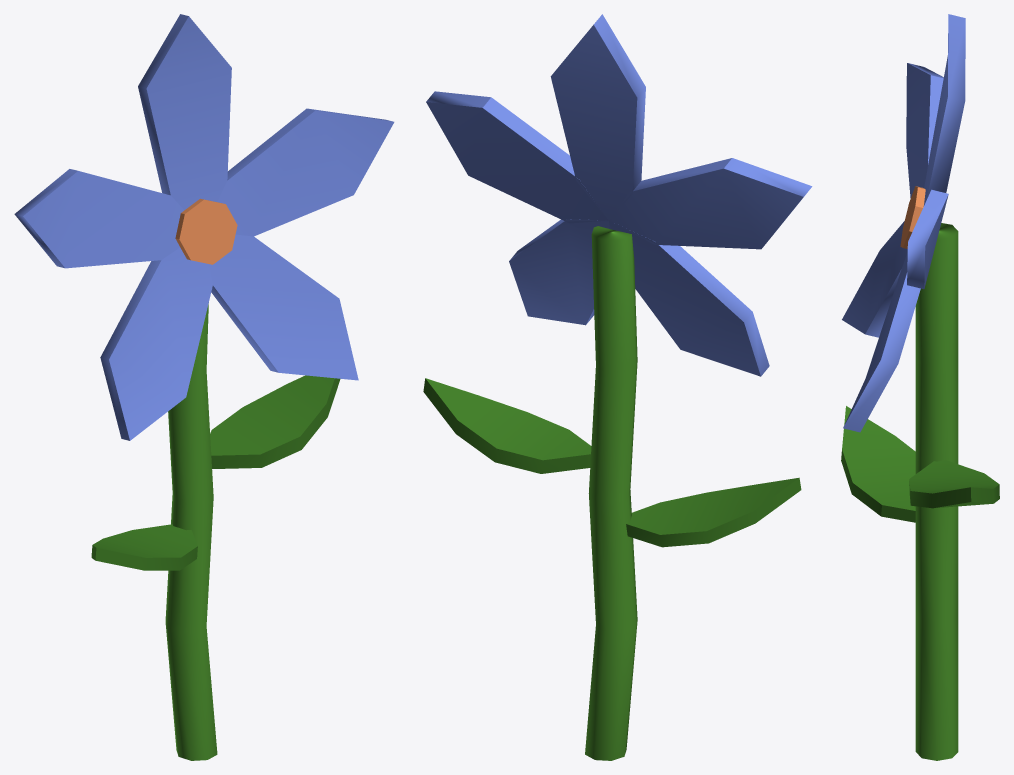
Rendered from Flower_Blue_3.fbx.
3 views of the same model, side by side, from view 1: azimuth 30°, elevation 25°; view 2: azimuth 150°, elevation 25°; view 3: azimuth 270°, elevation 25° (orthographic).
Visible parts, largest first — view 1: Cube.077, Cylinder.604, Plane.189, Plane.188, Cylinder.605; view 2: Cube.077, Cylinder.604, Plane.189, Plane.188; view 3: Cylinder.604, Cube.077, Plane.188, Plane.189, Cylinder.605.
Part boxes in pixels (x1=…): Cube.077: x1=14, y1=14, x2=394, y2=440; Cylinder.604: x1=165, y1=304, x2=217, y2=760; Plane.189: x1=210, y1=375, x2=340, y2=468; Plane.188: x1=91, y1=524, x2=197, y2=570; Cylinder.605: x1=175, y1=198, x2=237, y2=264; Cube.077: x1=426, y1=14, x2=812, y2=376; Cylinder.604: x1=585, y1=226, x2=637, y2=760; Plane.189: x1=423, y1=378, x2=591, y2=473; Plane.188: x1=626, y1=477, x2=801, y2=547; Cylinder.604: x1=915, y1=223, x2=958, y2=760; Cube.077: x1=842, y1=14, x2=965, y2=432; Plane.188: x1=841, y1=406, x2=915, y2=522; Plane.189: x1=909, y1=460, x2=999, y2=508; Cylinder.605: x1=900, y1=186, x2=925, y2=248.
Size of the model in its own units: 71.56 by 135 by 26.3.
